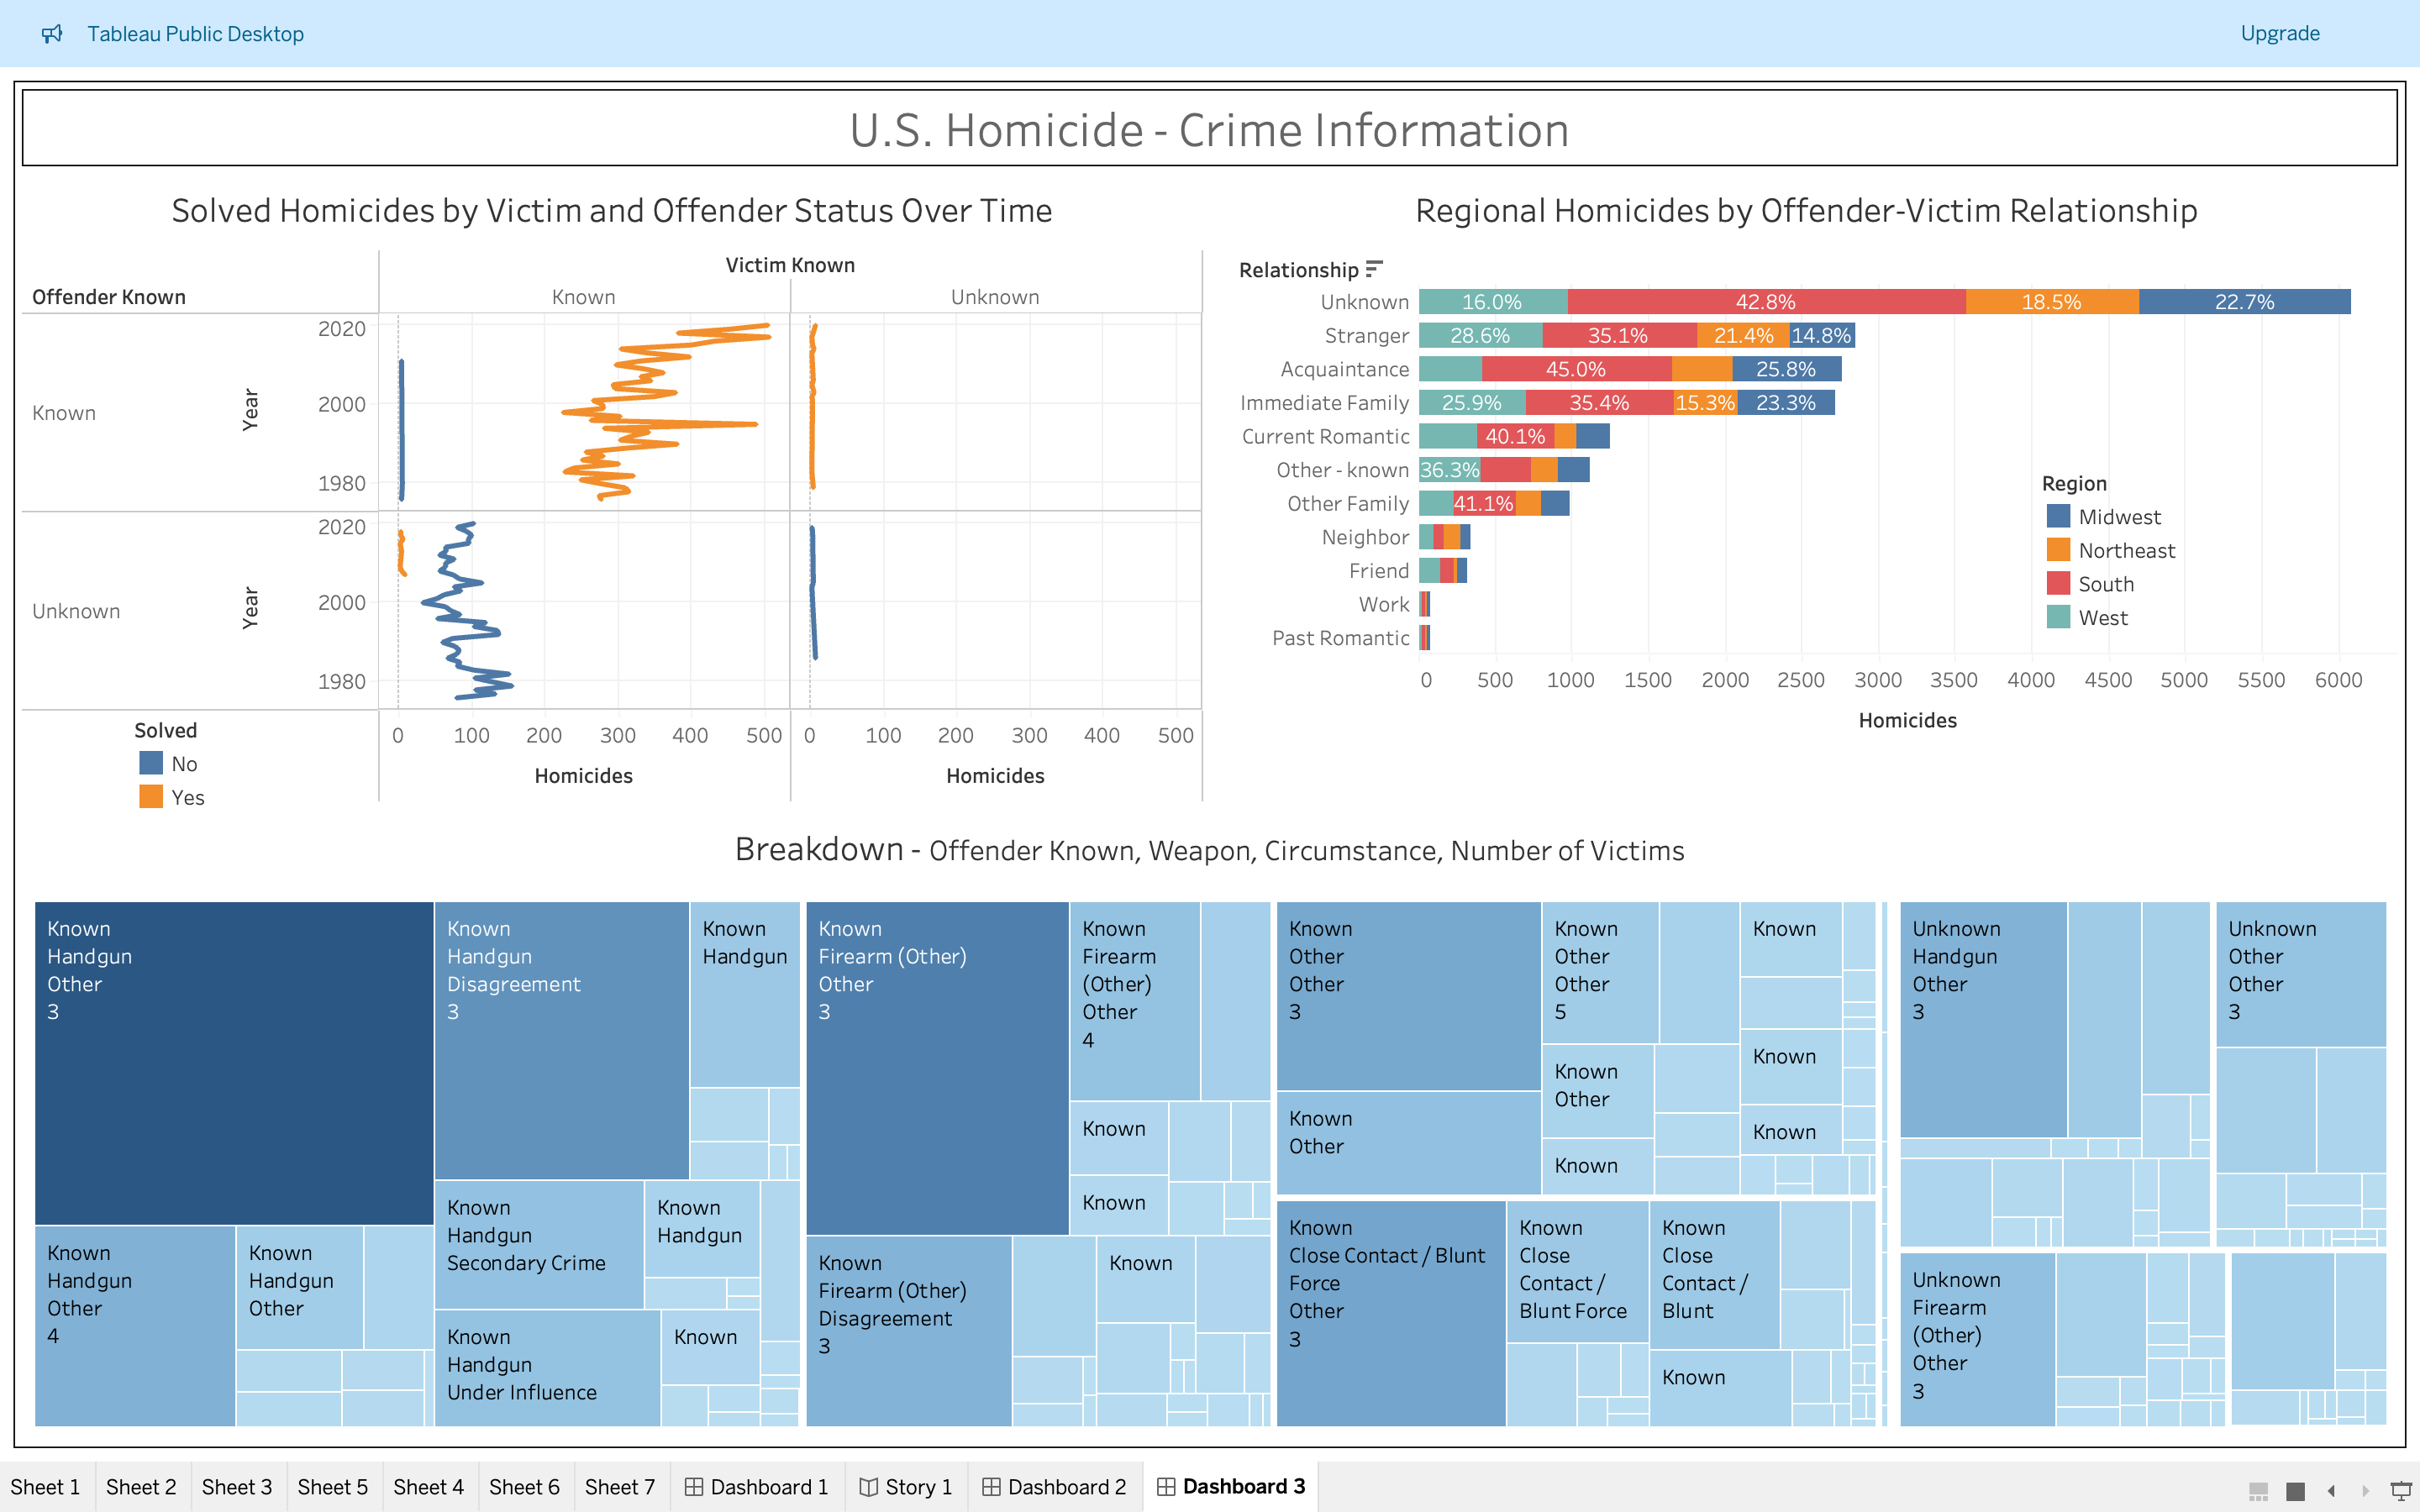

This screenshot's page, from the dashboard's own definition file:
{"tool":"tableau","page":{"name":"Dashboard 3","canvas":[1000,1000],"units":"permille","ordinal":2},"visuals":[{"type":"text","box":[7.3,11.7,985.4,64.9]},{"type":"worksheet","title":"Sheet 5","mark":"Automatic","rows":["Calculation_457256139676839936","Year"],"cols":["Calculation_457256139678937089","Year"],"box":[7.3,76.6,492.7,455.8]},{"type":"worksheet","title":"Sheet 1","mark":"Automatic","rows":["Relationship"],"cols":["Relationship"],"box":[500,76.6,492.7,455.8]},{"type":"legend","title":"Sheet 1","param":"[federated.0b1ztih0gpocdj166uy76140bp9j].[none:Region:nk]","box":[720.9,293,113.9,127.6]},{"type":"legend","title":"Sheet 5","param":"[federated.0b1ztih0gpocdj166uy76140bp9j].[none:Solved:nk]","box":[55.3,464.8,65.1,75.5]},{"type":"worksheet","title":"Sheet 4","mark":"Automatic","box":[7.3,532.5,985.4,455.8]}]}

Visuals, with their boxes on the dashboard's canvas, which has no fixed pixel size, in thousandths of its width and height (x1, y1, x2, y2). These are canvas units, not pixel positions in the 2420x1512 screenshot, which may show the page scaled, cropped or inside an application window:
text: 7/12/993/77
"Sheet 5" worksheet: 7/77/500/532
"Sheet 1" worksheet: 500/77/993/532
"Sheet 1" legend: 721/293/835/421
"Sheet 5" legend: 55/465/120/540
"Sheet 4" worksheet: 7/532/993/988
